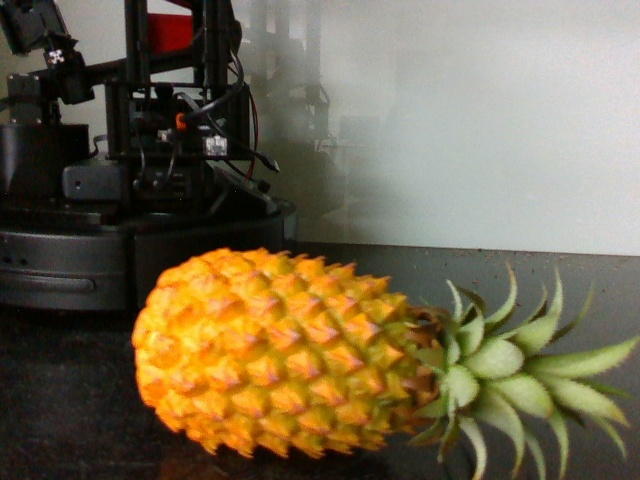pineapple: (133, 234, 640, 464)
